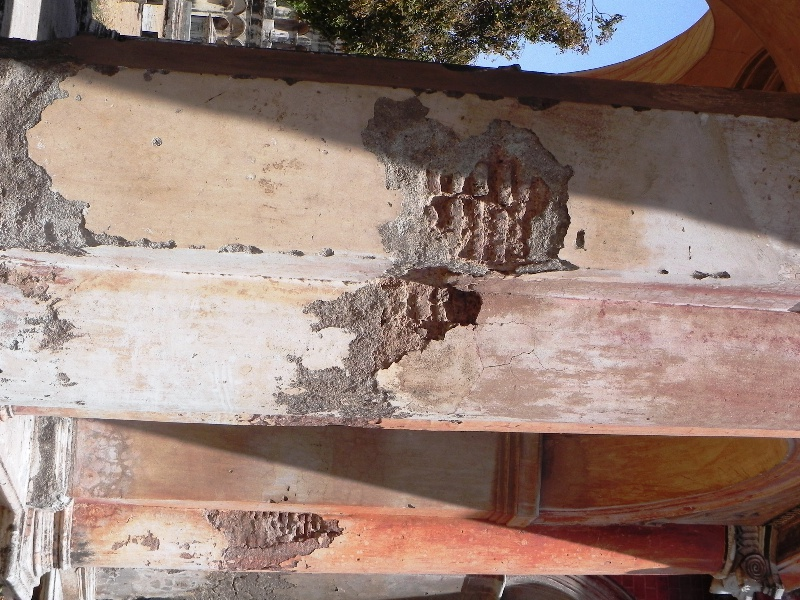Exposed Bricks: (431, 164, 544, 262)
Spalling: (1, 56, 192, 269), (263, 257, 488, 427), (347, 83, 435, 165)
